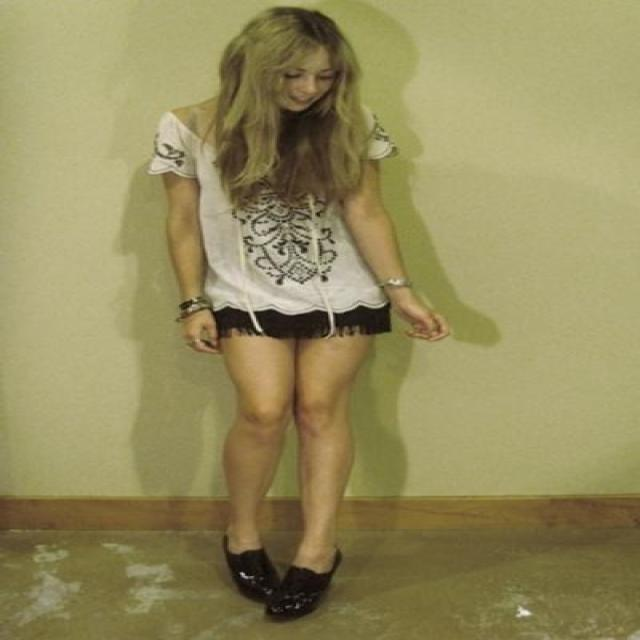shirt: (152, 112, 378, 354)
shoe: (225, 549, 332, 622)
skirt: (212, 299, 390, 339)
